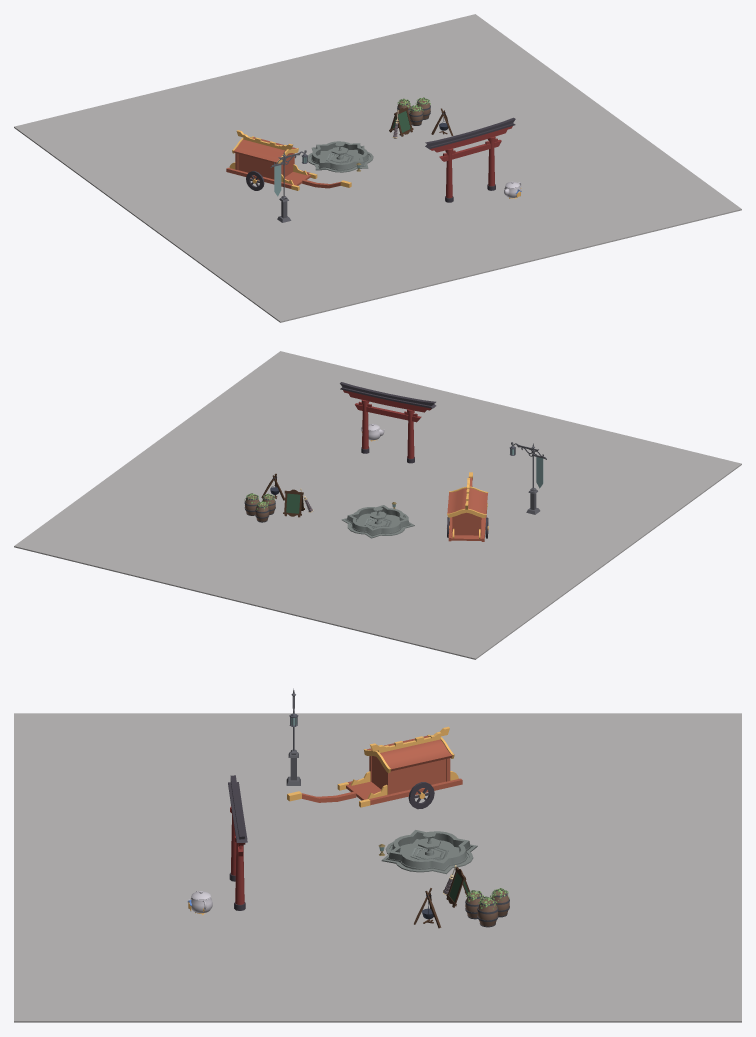
Rendered from xyz_homework_blocking_genshin_props.glb.
3 renders of one model, top to bottom at view 1: azimuth 30°, elevation 25°; view 2: azimuth 150°, elevation 25°; view 3: azimuth 270°, elevation 25°, orthographic. The views are drawn at different scales.
Visible parts, largest first — view 1: Plane.006_9, Circle_645, Cube.030_707, Cube.032_709, object 642, Cylinder_700; view 2: Plane.006_9, Cube.032_709, Circle_645, object 642, Cylinder_700, Cube.030_707; view 3: Plane.006_9, Cube.030_707, Circle_645, Cube.032_709, object 642, Cylinder_700, Cube.037_714.
Boxes of the visible parts, x1=… form: Plane.006_9: x1=14, y1=14, x2=741, y2=322; Circle_645: x1=311, y1=141, x2=368, y2=169; Cube.030_707: x1=238, y1=153, x2=292, y2=179; Cube.032_709: x1=233, y1=137, x2=296, y2=163; object 642: x1=307, y1=145, x2=373, y2=172; Cylinder_700: x1=446, y1=141, x2=494, y2=198; Plane.006_9: x1=14, y1=351, x2=741, y2=659; Cube.032_709: x1=447, y1=488, x2=487, y2=513; Circle_645: x1=347, y1=505, x2=409, y2=534; object 642: x1=341, y1=511, x2=414, y2=538; Cylinder_700: x1=362, y1=404, x2=414, y2=458; Cube.030_707: x1=455, y1=512, x2=481, y2=535; Plane.006_9: x1=14, y1=713, x2=741, y2=1022; Cube.030_707: x1=371, y1=756, x2=446, y2=793; Circle_645: x1=388, y1=830, x2=470, y2=869; Cube.032_709: x1=367, y1=735, x2=452, y2=771; object 642: x1=381, y1=838, x2=477, y2=874; Cylinder_700: x1=231, y1=814, x2=244, y2=904; Cube.037_714: x1=348, y1=778, x2=462, y2=805.
Bounding box in the file's own units: 101 × 14.91 × 101.
